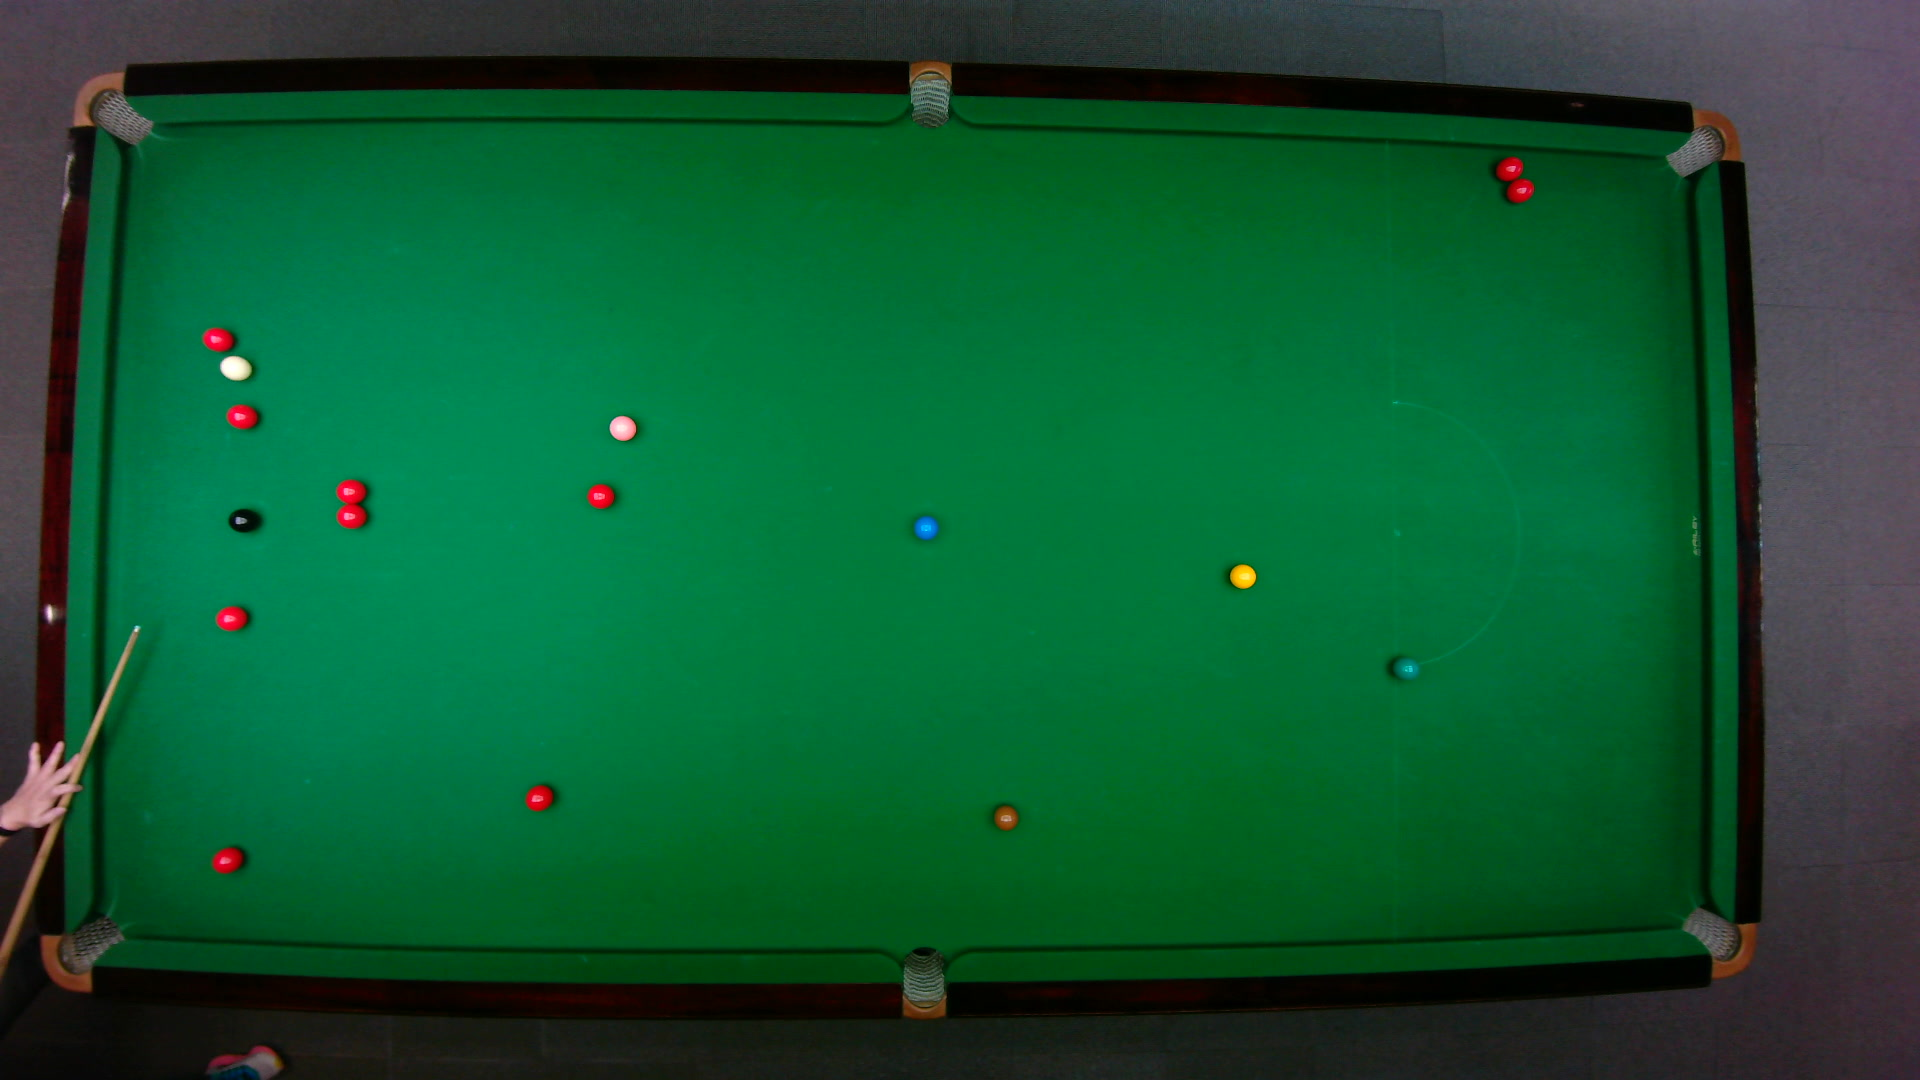bag: (40, 913, 128, 993), (71, 71, 156, 146), (1679, 906, 1759, 981), (1664, 108, 1741, 179), (902, 945, 945, 1021), (909, 59, 952, 131)
black: (225, 506, 258, 531)
blue: (913, 514, 940, 541)
brown: (992, 804, 1021, 832)
cue: (0, 622, 142, 985)
green: (1390, 654, 1422, 680)
pink: (607, 414, 640, 443)
red: (210, 844, 247, 876), (214, 604, 251, 633), (200, 324, 237, 353), (334, 504, 371, 531), (224, 404, 261, 431), (524, 783, 556, 814), (334, 477, 369, 504), (585, 483, 617, 512), (1505, 177, 1536, 204), (1494, 156, 1524, 183)
white: (218, 353, 255, 382)
yellow: (1228, 563, 1258, 589)
zone: (1390, 400, 1519, 666)
